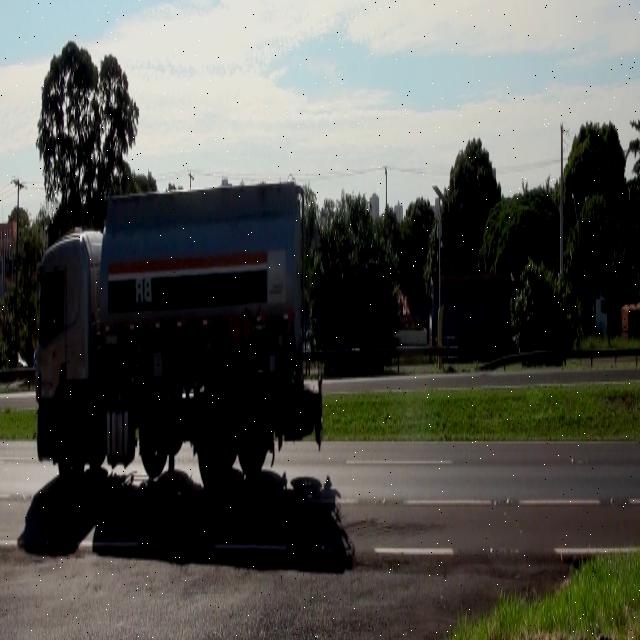-axle: (235, 376, 268, 480), (197, 399, 229, 493), (136, 388, 168, 481), (57, 409, 87, 497)
